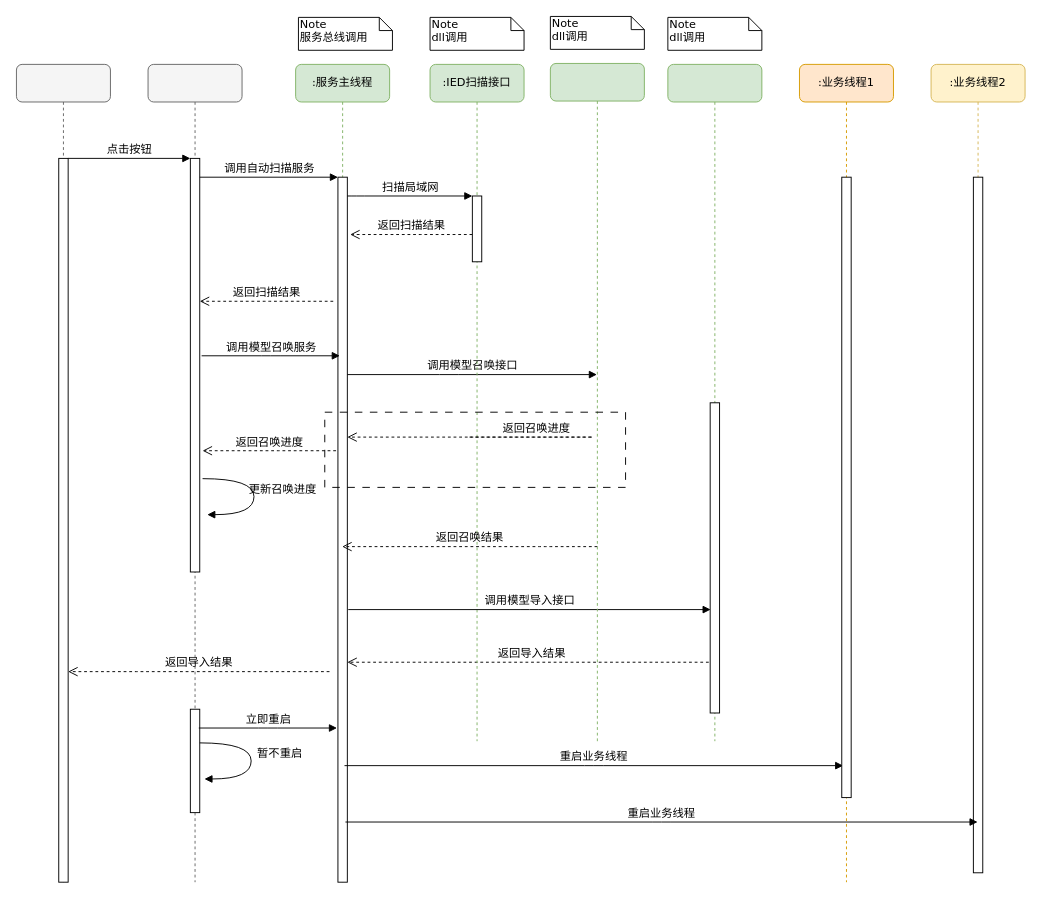
This 1042x899 diagram has some shape labels left out. Here are the shapes that lost their labels. From the top down, the box of each, then its label:
(549, 63, 644, 741): :模型召唤接口
(667, 63, 762, 741): :模型导入接口
(16, 63, 110, 882): :维护页面
(147, 63, 242, 882): :对话框
